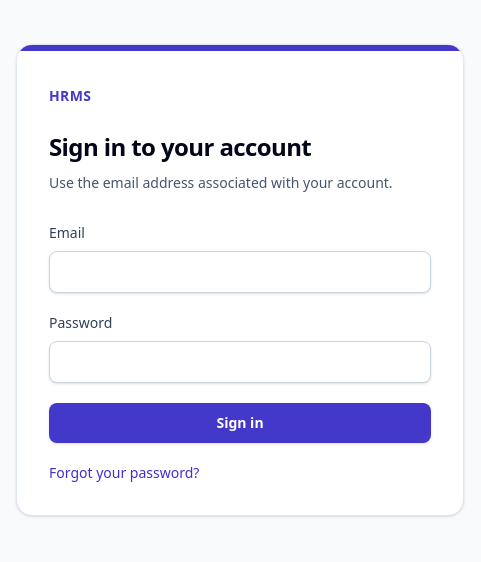
Test: AuthProvider and protected navigation › shows a generic invalid-credentials message on login failure
Expected: the heading "Sign in to your account" is shown, [49,130,311,163]
Step 1. Type "person@example.com" into the field labelled "Email" → coordinates (240, 272), box [49,251,431,293]
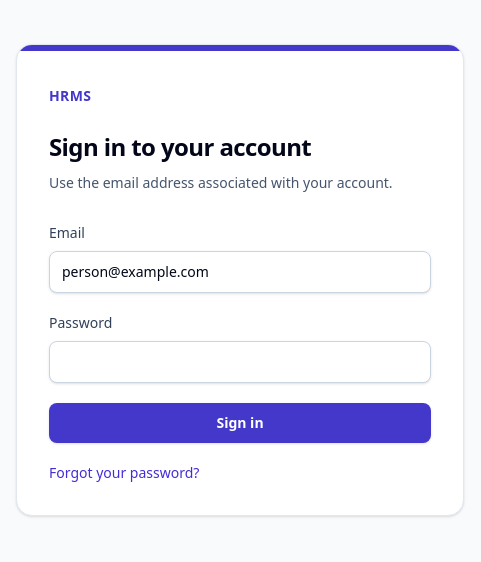
Step 2. Type "incorrect-password" into the password field labelled "Password" → coordinates (240, 362), box [49,341,431,383]
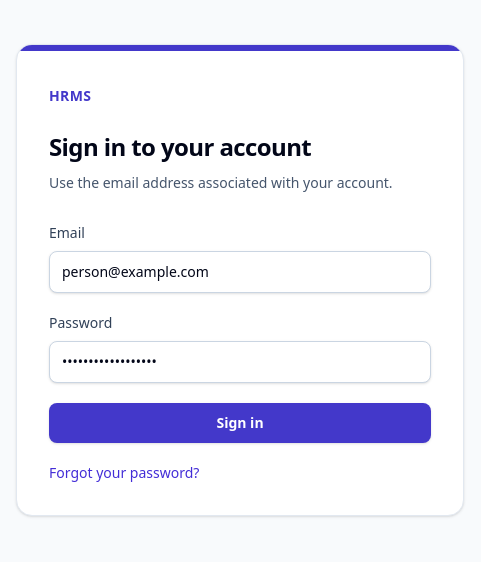
Step 3. Click the button "Sign in" → coordinates (240, 423), box [49,403,431,443]
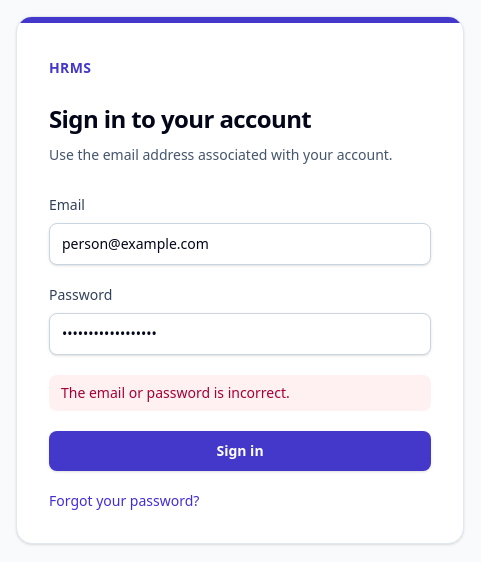
Expected: the message does not show "401", [49,375,431,411]
Result: the message reads "The email or password is incorrect." at [61,383,290,402]
